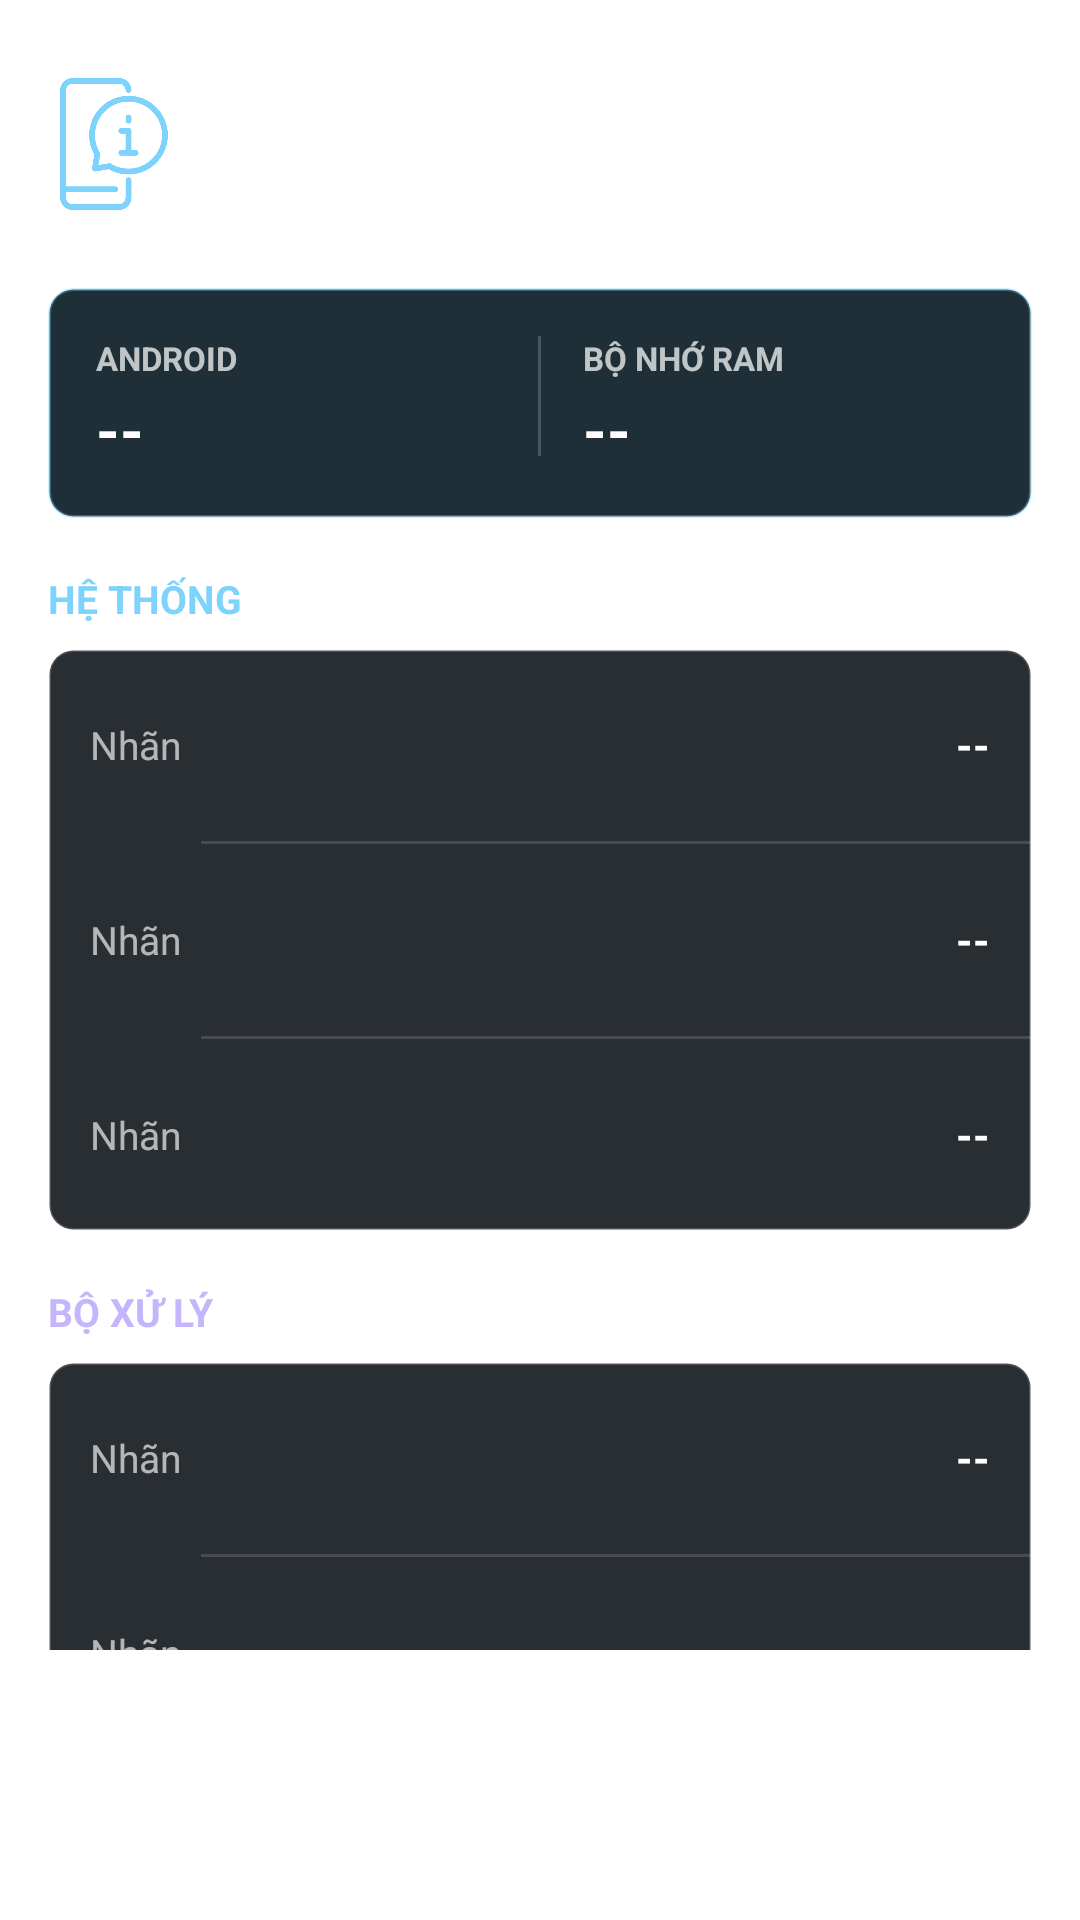

Icons on this 1080 × 1920 Android screen, each with the point to tap as point (x, y):
devices: point (114, 144)
